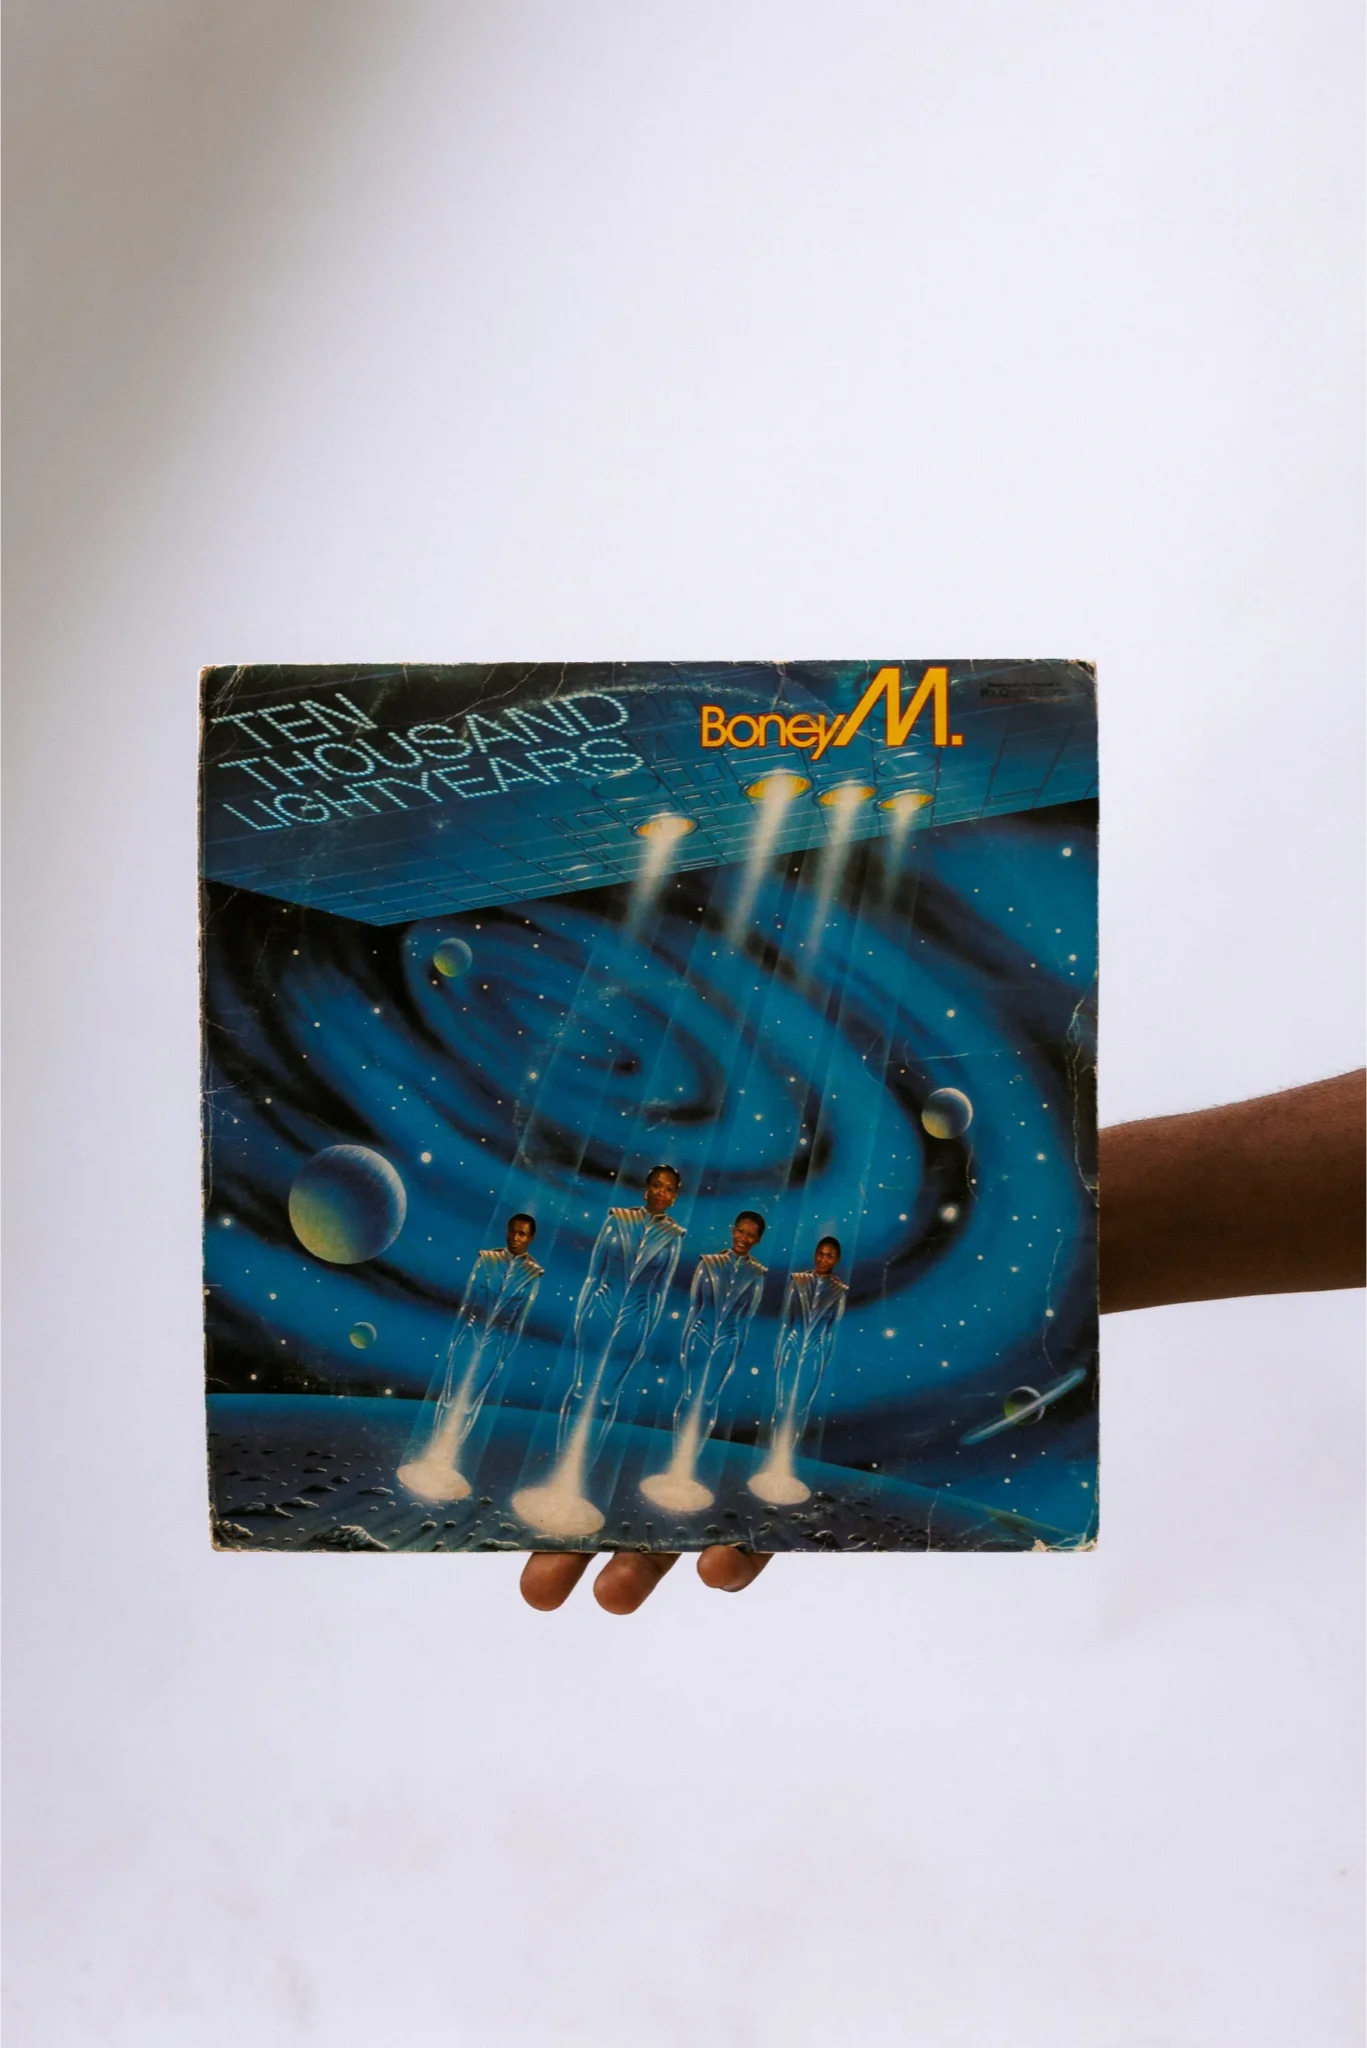boney m._ten thousand lightyears: (182, 657, 1118, 1554)
